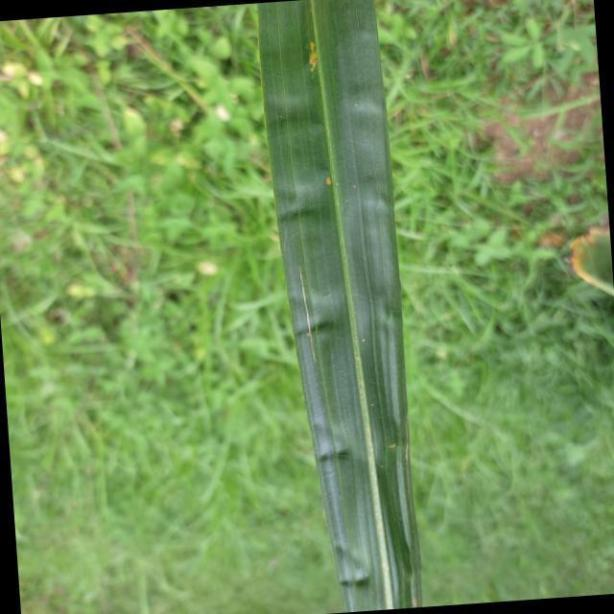Boron: (257, 0, 416, 614)
